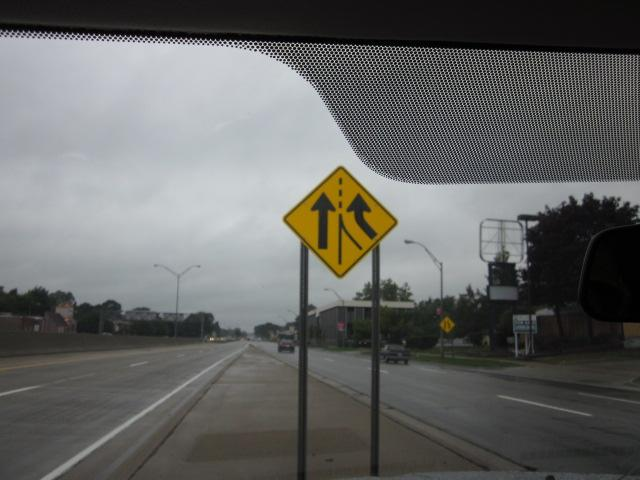warning: (282, 166, 400, 282), (438, 316, 460, 337)
